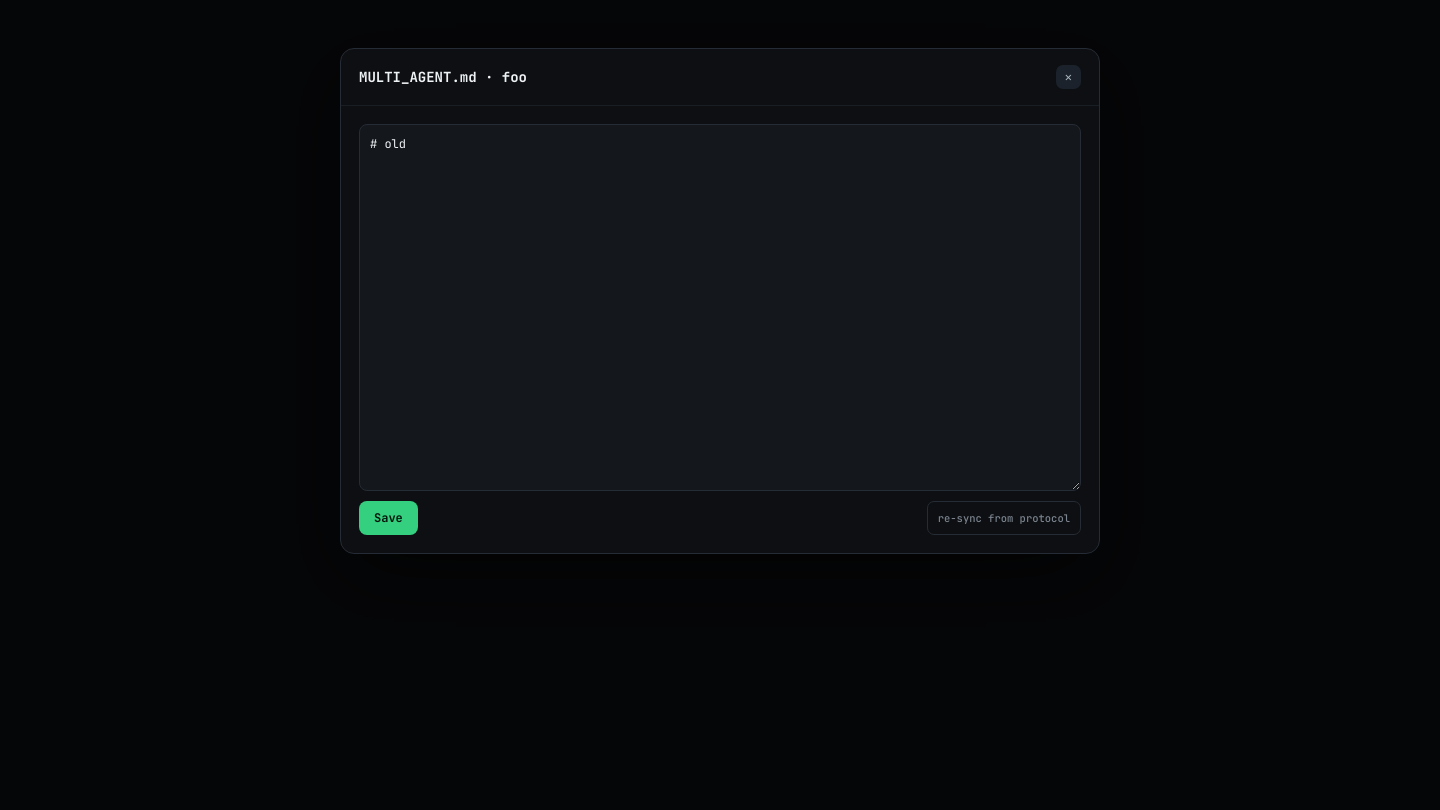
Test: re-sync replaces the editor content with the server response
Expected: the text box showing "# old" is shown, [359,124,1081,491]
Click the button "re-sync from protocol".
click(1004, 518)  # box [927,501,1081,535]
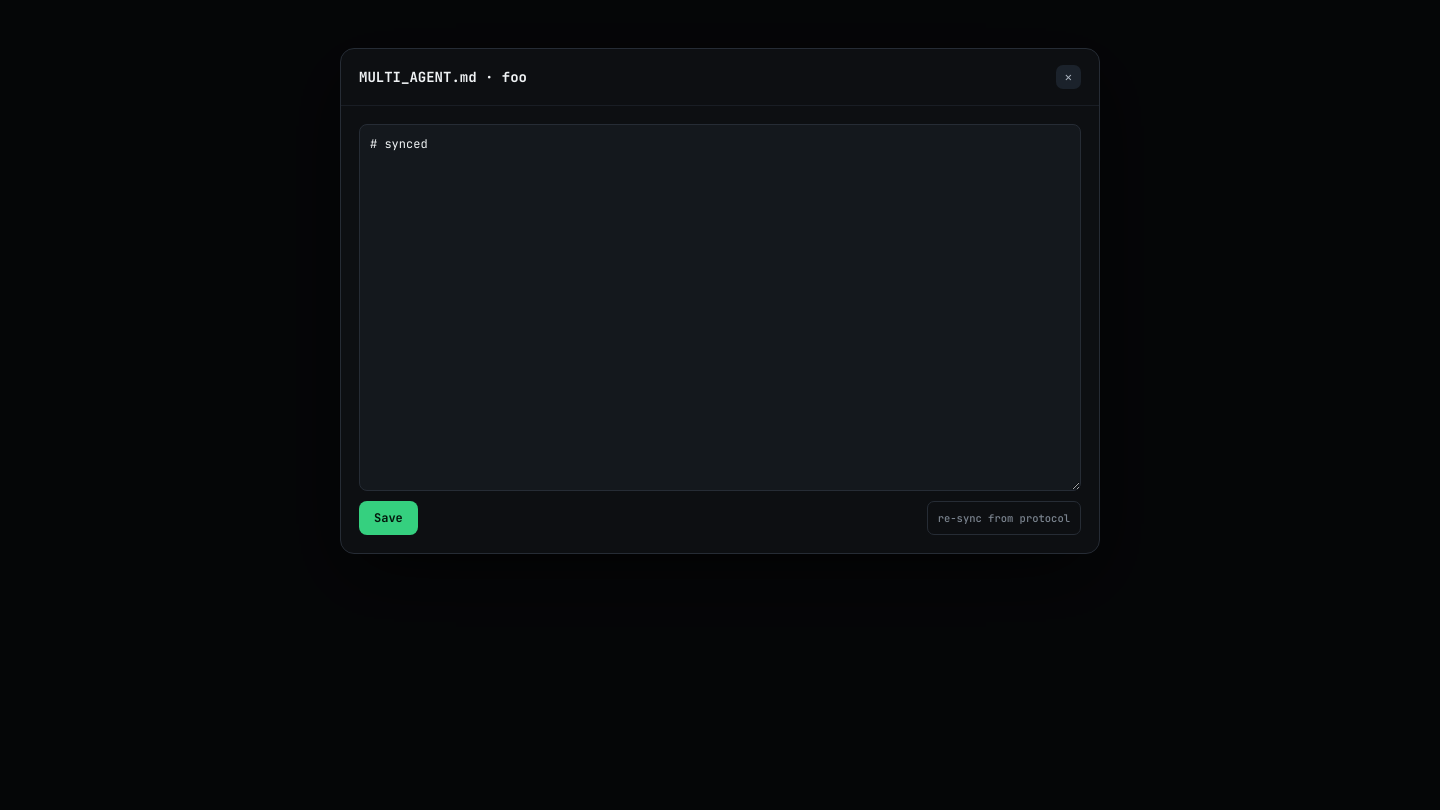
Now the text box showing "# synced" is shown, box [359,124,1081,491]
